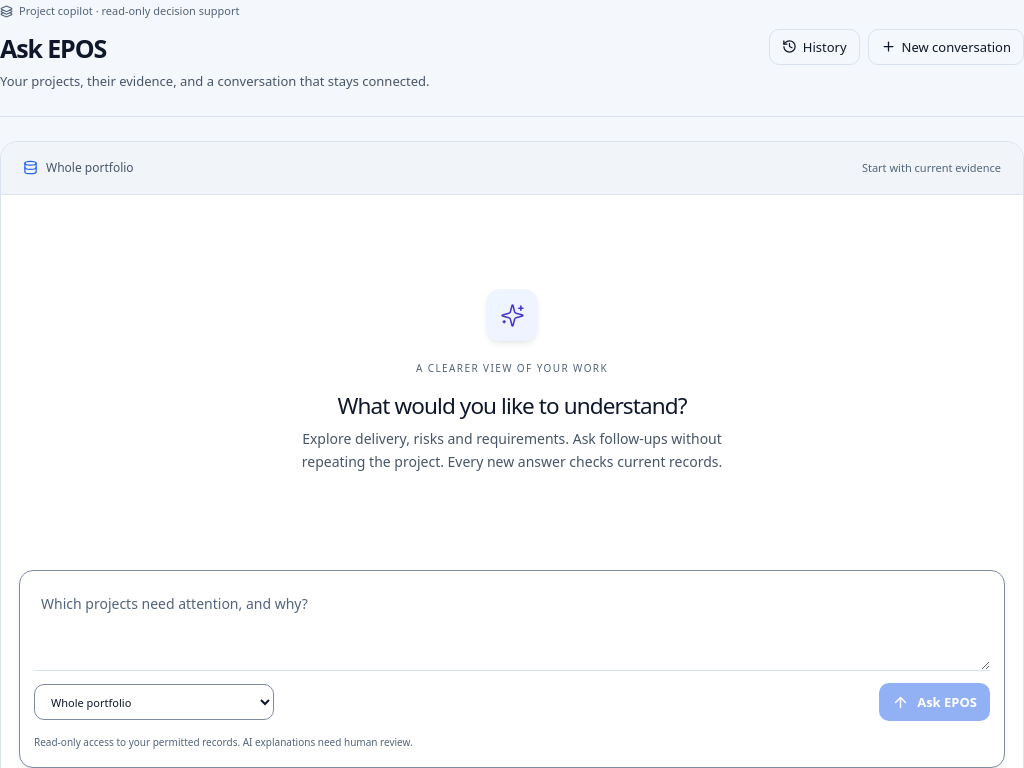
Test: AskEposPage › keeps project information intact when the request fails
The width and height of the screenshot is (1024, 768).
Step 1. Type "status please" into the text box named "Ask a question" → (512, 627), box 34,585 -> 990,670
Then press Enter
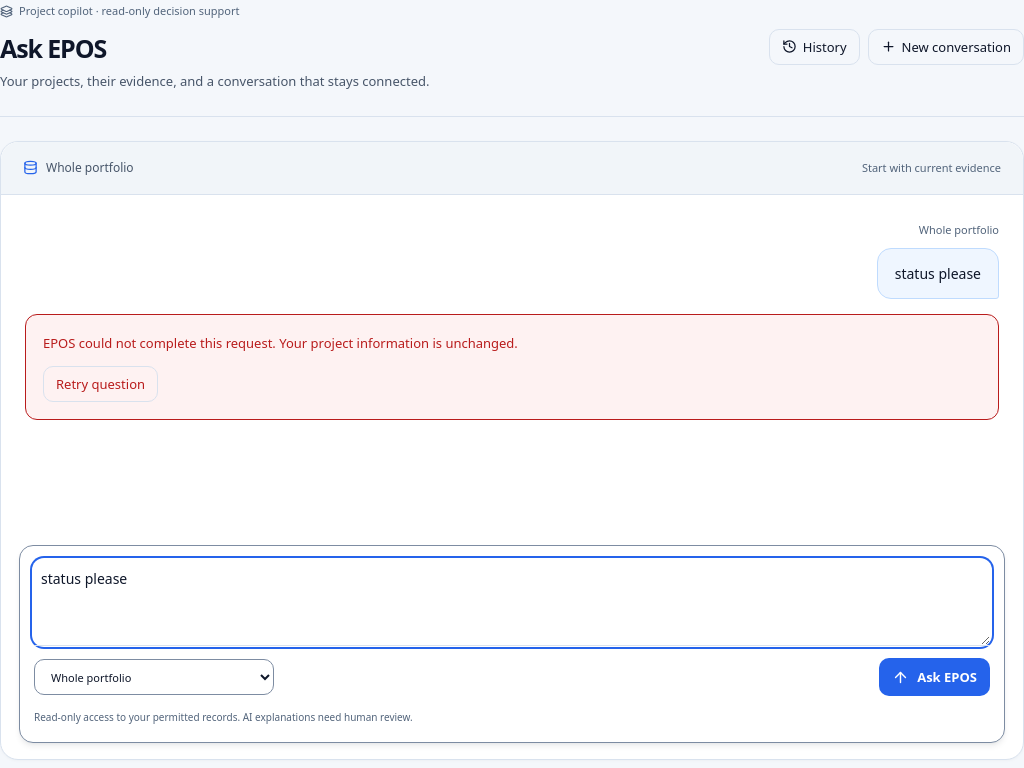
Expected: the message shows "Your project information is unchanged.", 43,334 -> 518,352
Expected: the 3rd button named "Retry question" is shown, 43,366 -> 158,402
